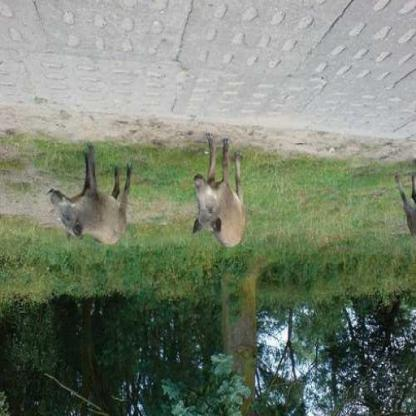boar: (40, 131, 141, 258), (181, 128, 259, 270)
